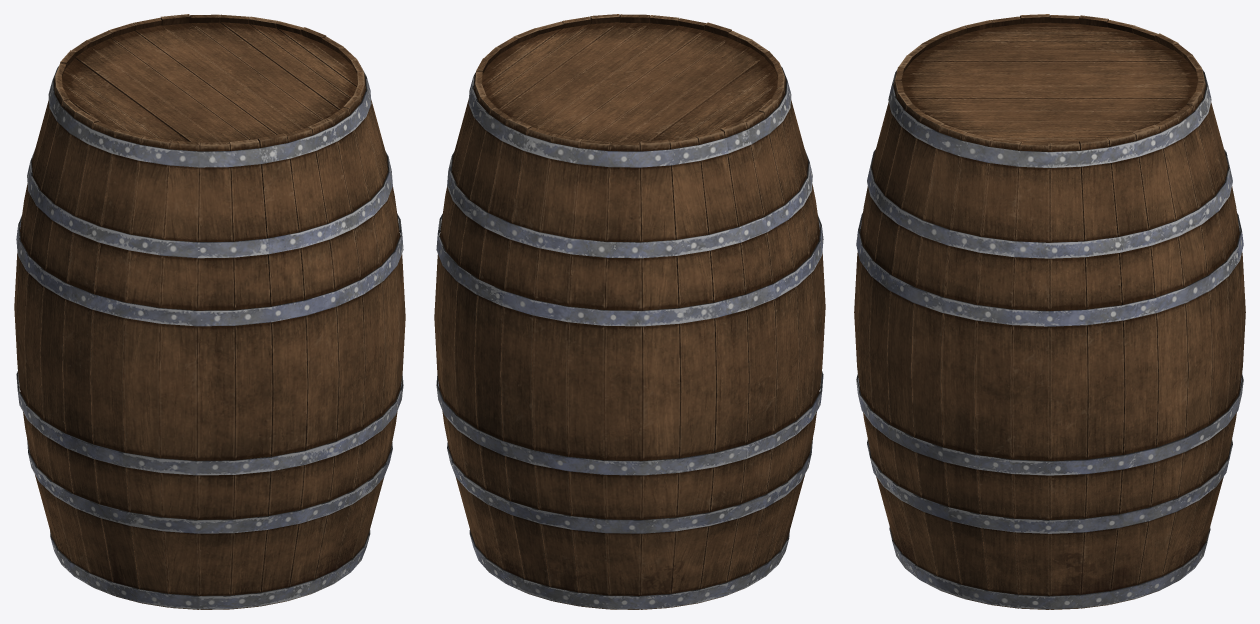
File: wooden_wine_barrel.glb
3 renders of one model, left to right at view 1: azimuth 30°, elevation 25°; view 2: azimuth 150°, elevation 25°; view 3: azimuth 270°, elevation 25°, orthographic.
Visible parts, largest first — view 1: Barrel_Closed; view 2: Barrel_Closed; view 3: Barrel_Closed.
Boxes of the visible parts, x1,y1,x2,y2 form: Barrel_Closed: [14, 14, 405, 609]; Barrel_Closed: [434, 14, 825, 609]; Barrel_Closed: [854, 14, 1245, 609].
Bounding box in the file's own units: 0.7033 × 0.9214 × 0.7033.
Materials: 1 (1 with a texture image).
